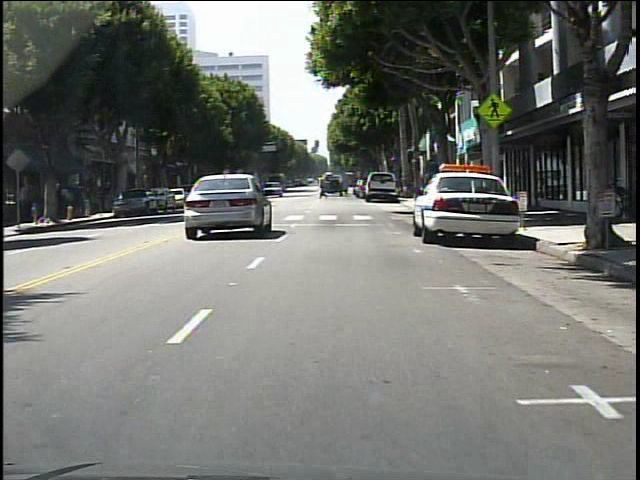person: (420, 168, 435, 211), (19, 182, 30, 223), (75, 181, 86, 218), (62, 186, 74, 219), (319, 178, 329, 200)
